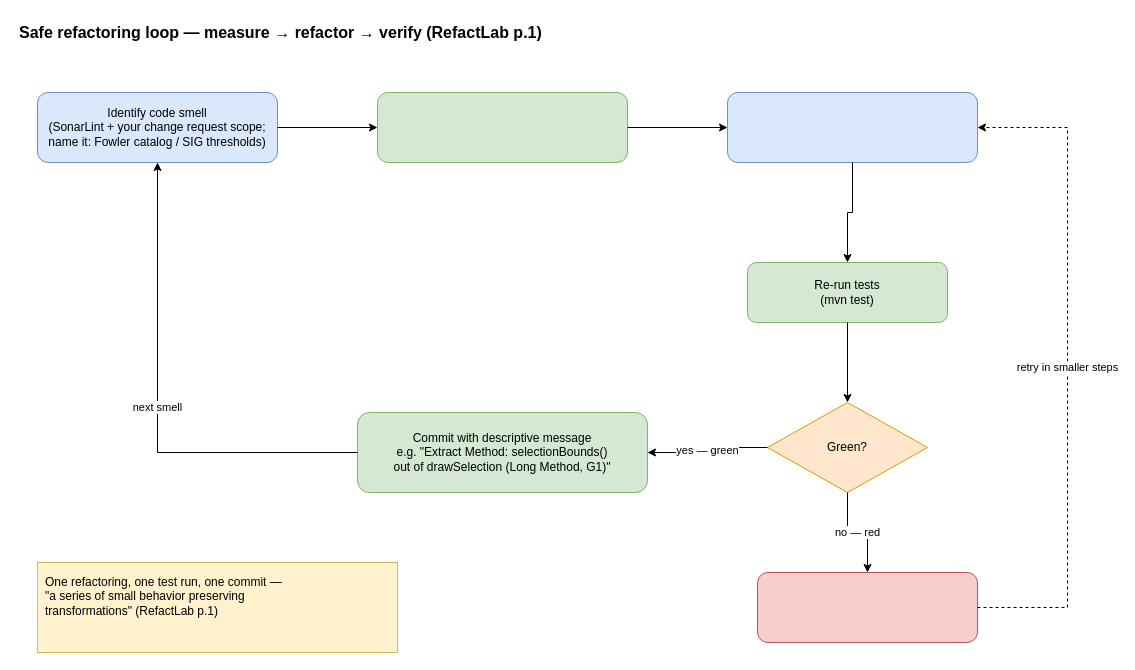
This 1135x670 diagram has some shape labels left out. The centre of each missing label's shape, as x and y in pixels:
"Apply ONE refactoring (small step, IDE-automated; e.g. Extract Method)" belongs at (852,127).
"Ensure green tests first (mvn clean test — safety-net baseline)" belongs at (502,127).
"Revert / fix the step (behaviour must be preserved)" belongs at (867,607).
